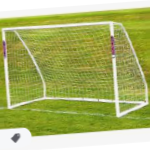goals: (1, 21, 149, 122)
